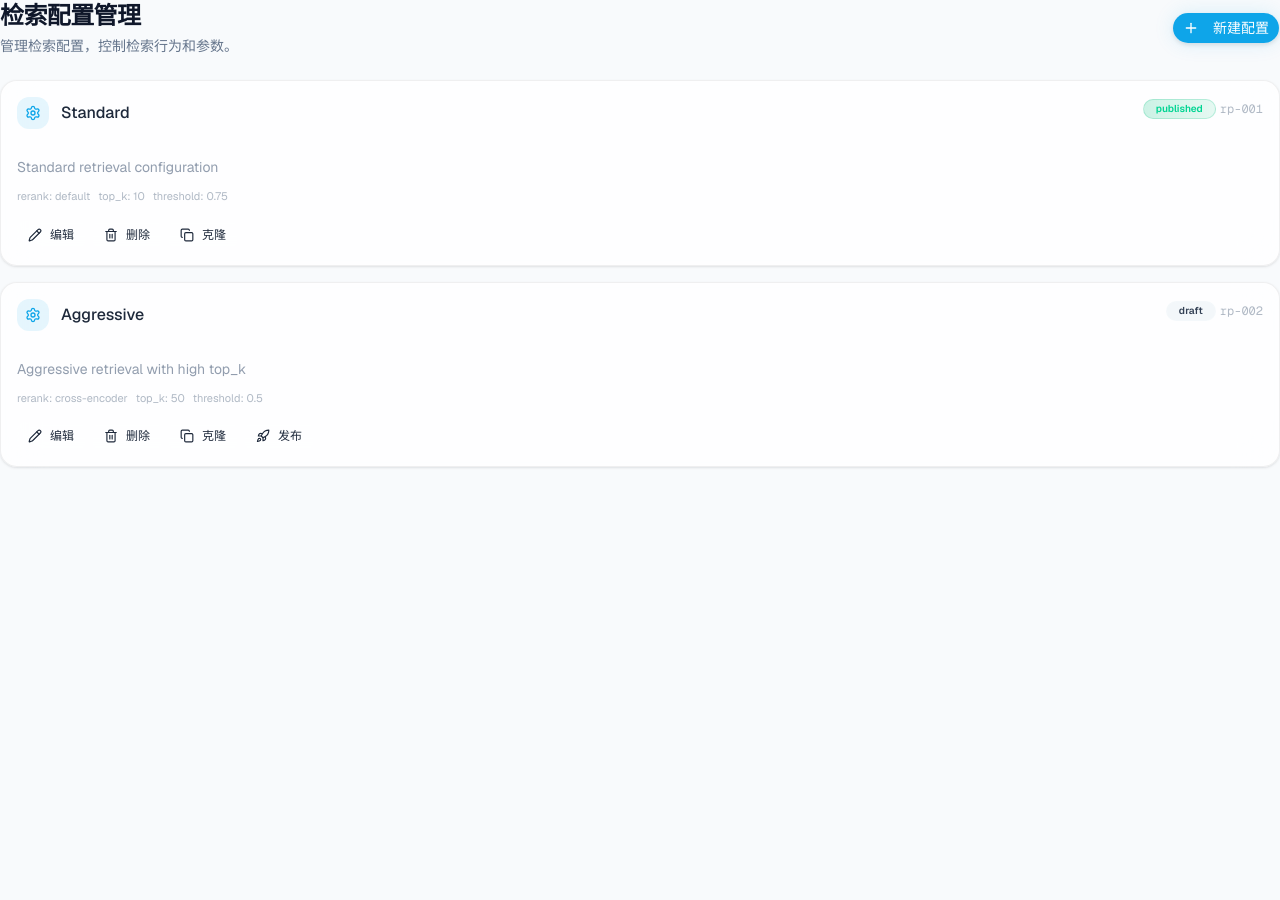
RetrievalProfilesPage › Edit Profile › submits updated data and refreshes list
The image size is (1280, 900).
Expected: the text "Standard" is shown, [61,101,130,125]
Click the button "编辑" below "default": click(51, 235) [17,221,85,249]
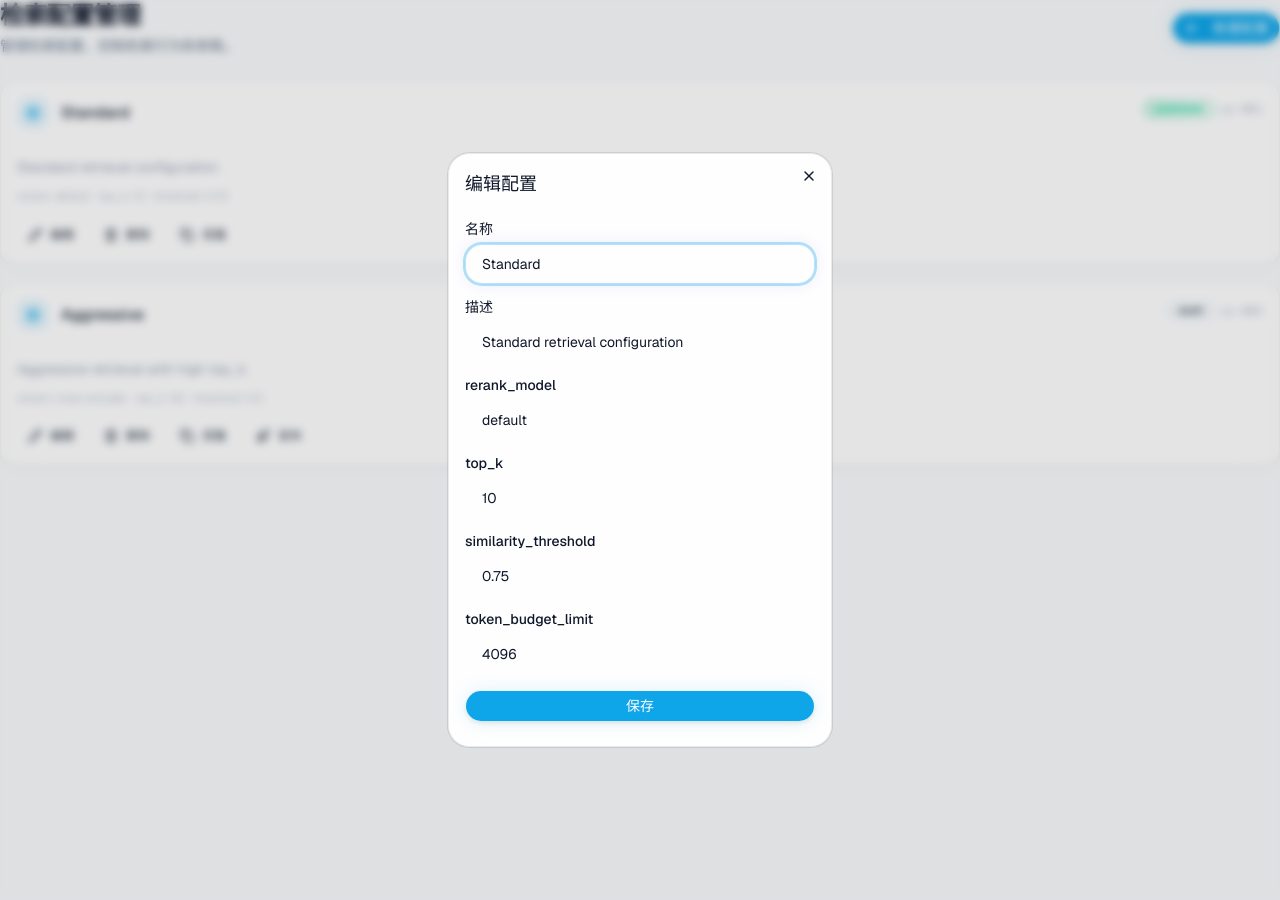
Expected: the dialog with test id "edit-profile-dialog" is shown, [448,153,832,747]
Replace the text in the field labelled "名称" with "Updated Standard": (640, 264) [465,244,815,284]
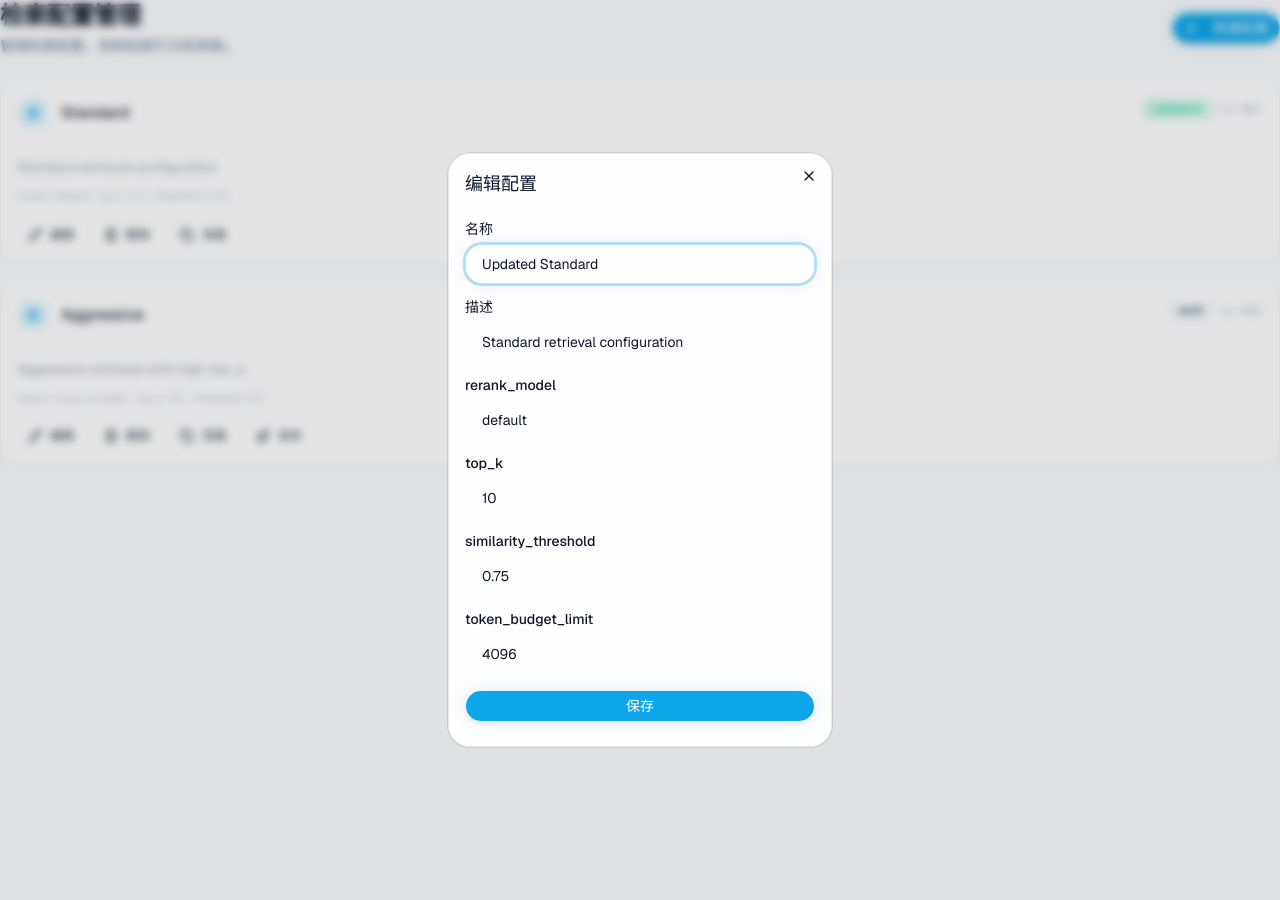
Click the button "保存": click(640, 706) [465,690,815,722]
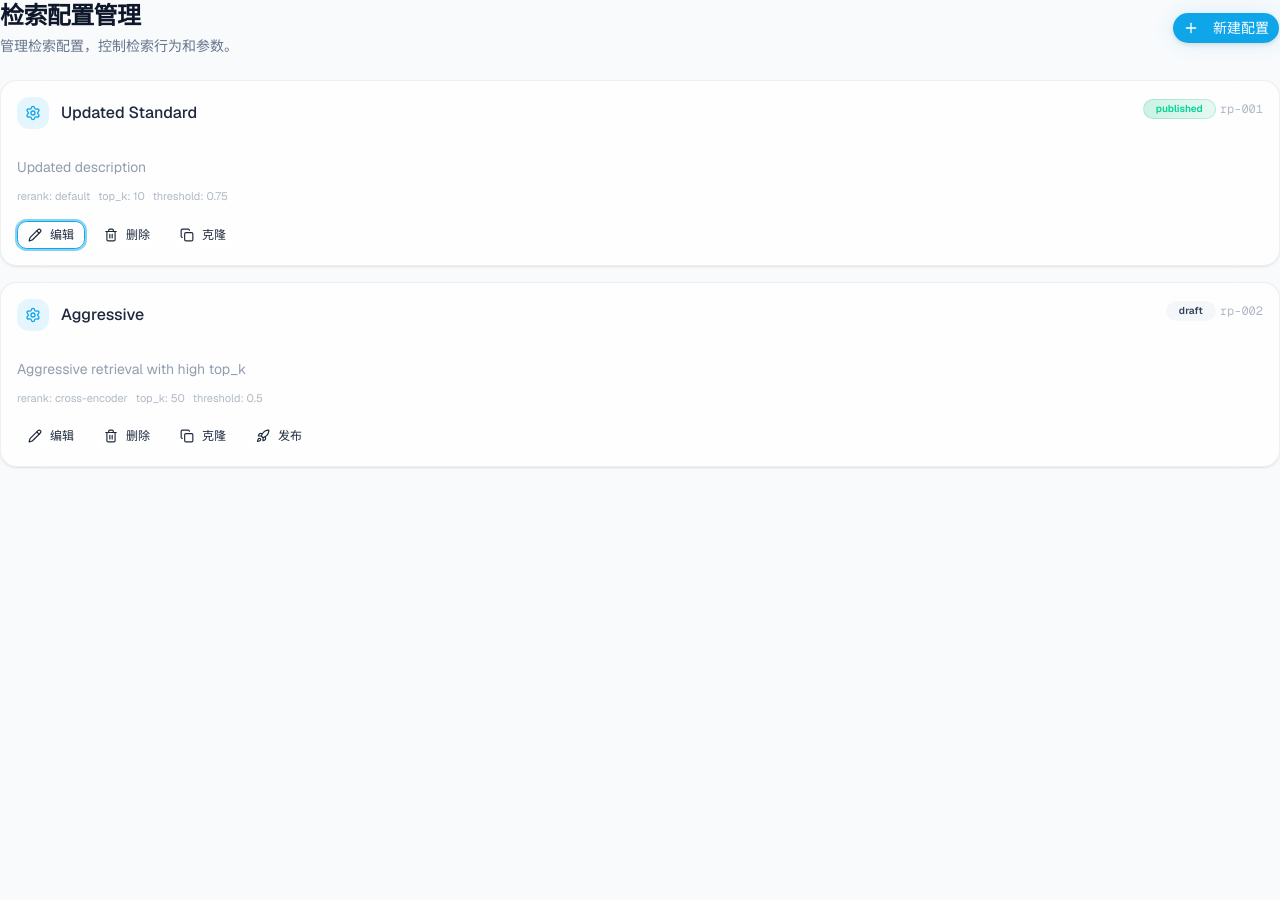
Expected: the dialog with test id "edit-profile-dialog" is gone
